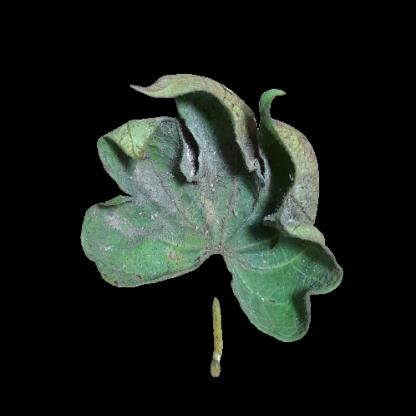curl_stage2: (254, 267, 304, 313), (158, 82, 231, 105), (269, 124, 301, 153)
sooty: (146, 139, 246, 204), (174, 205, 235, 255), (104, 211, 171, 245), (266, 182, 317, 225)
